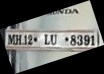character: (7, 33, 16, 45), (69, 34, 77, 46), (43, 33, 50, 45), (76, 34, 83, 46), (83, 34, 90, 46), (15, 34, 22, 45), (27, 34, 34, 45), (50, 34, 57, 45), (90, 34, 95, 46), (23, 34, 27, 45)
